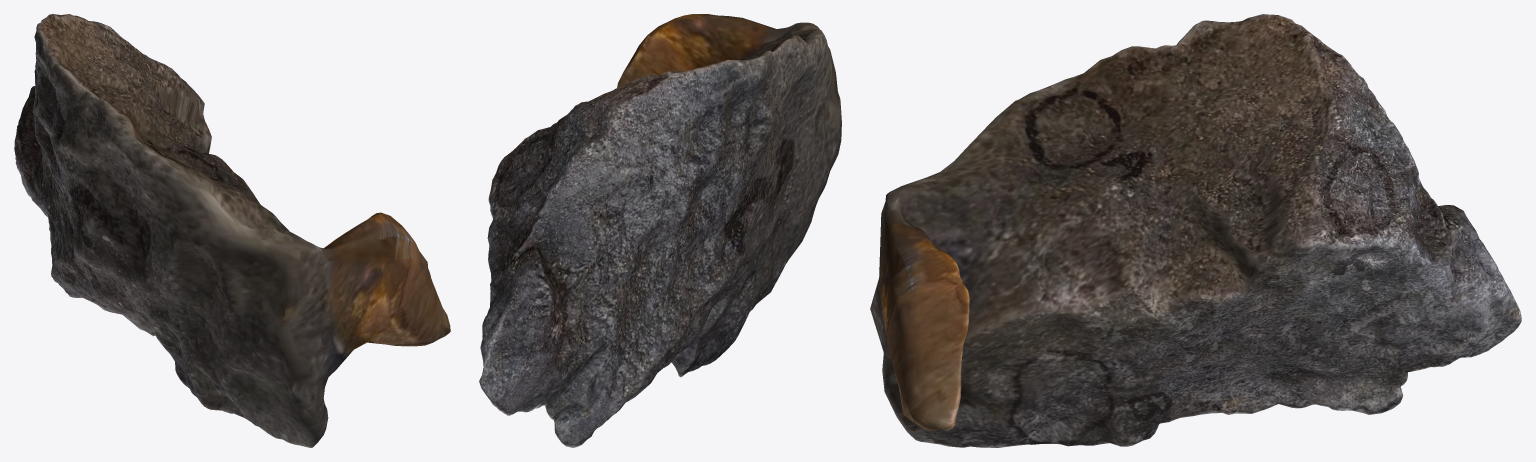
The model's file is VM Bueno C100 Terraspec 2.glb.
3 views of the same model, side by side, from view 1: azimuth 30°, elevation 25°; view 2: azimuth 150°, elevation 25°; view 3: azimuth 270°, elevation 25° (orthographic). The views are drawn at different scales.
Visible parts, largest first — view 1: baked_mesh; view 2: baked_mesh; view 3: baked_mesh.
Part boxes in pixels (x1,y1,x2,y2): baked_mesh: [14, 14, 450, 447]; baked_mesh: [479, 14, 841, 447]; baked_mesh: [870, 14, 1521, 447].
Size of the model in its own units: 0.3486 by 0.4214 by 0.6524.
1 material, 1 textured.
